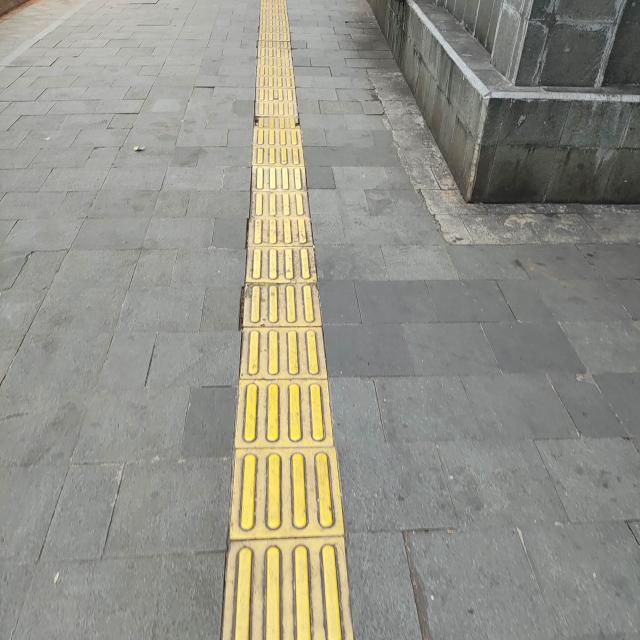lurus: (221, 0, 357, 640)
